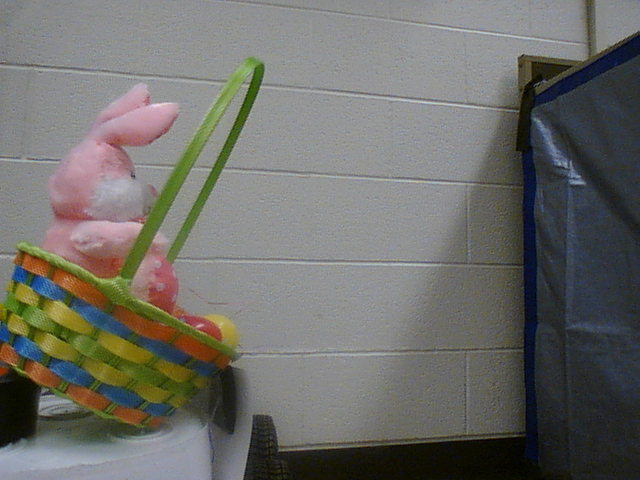bunny: (1, 51, 271, 428)
